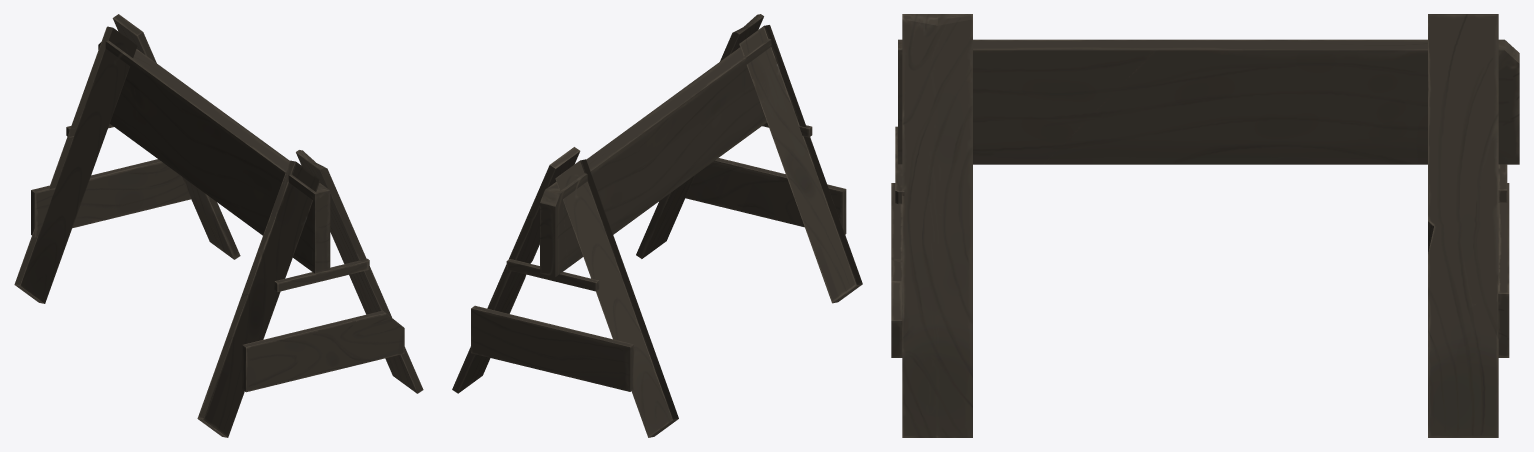
Rendered from valla2.glb.
3 renders of one model, left to right at view 1: azimuth 30°, elevation 25°; view 2: azimuth 150°, elevation 25°; view 3: azimuth 270°, elevation 25°, orthographic. The views are drawn at different scales.
Parts seen in each view (by area): view 1: Cube; view 2: Cube; view 3: Cube.
Boxes of the visible parts, left/top/right/bottom form: Cube: left=14, top=14, right=423, bottom=437; Cube: left=452, top=14, right=862, bottom=437; Cube: left=891, top=14, right=1519, bottom=437.
Size of the model in its own units: 1.1 by 1.3 by 2.06.
1 material, 1 textured.
